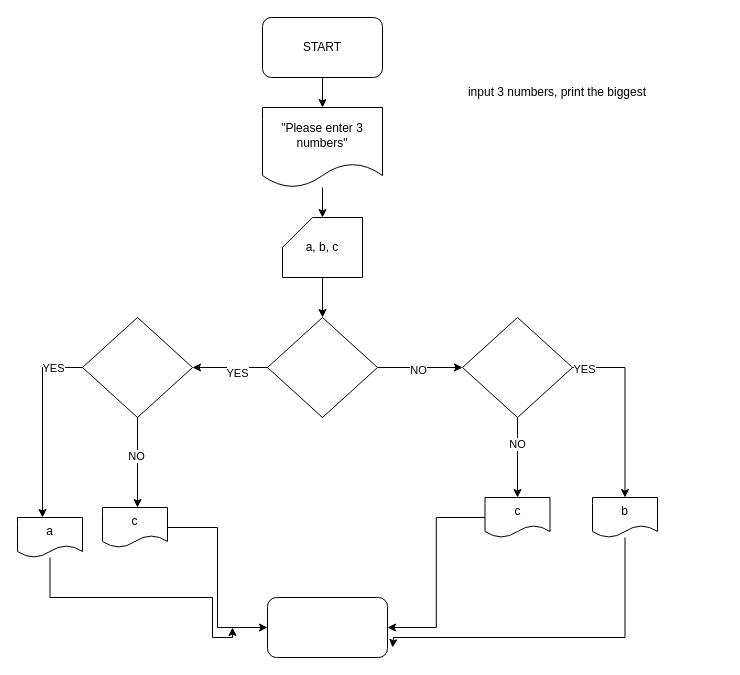
The diagram is 740 pixels wide and 675 high, and some of its shapes have lost their labels. The shapes that lost their labels are listed below. From the top down, each one's centre as x and y in pixels, then its label:
(137,367): a > c
(322,367): a > b
(517,367): b > c
(327,627): STOP
